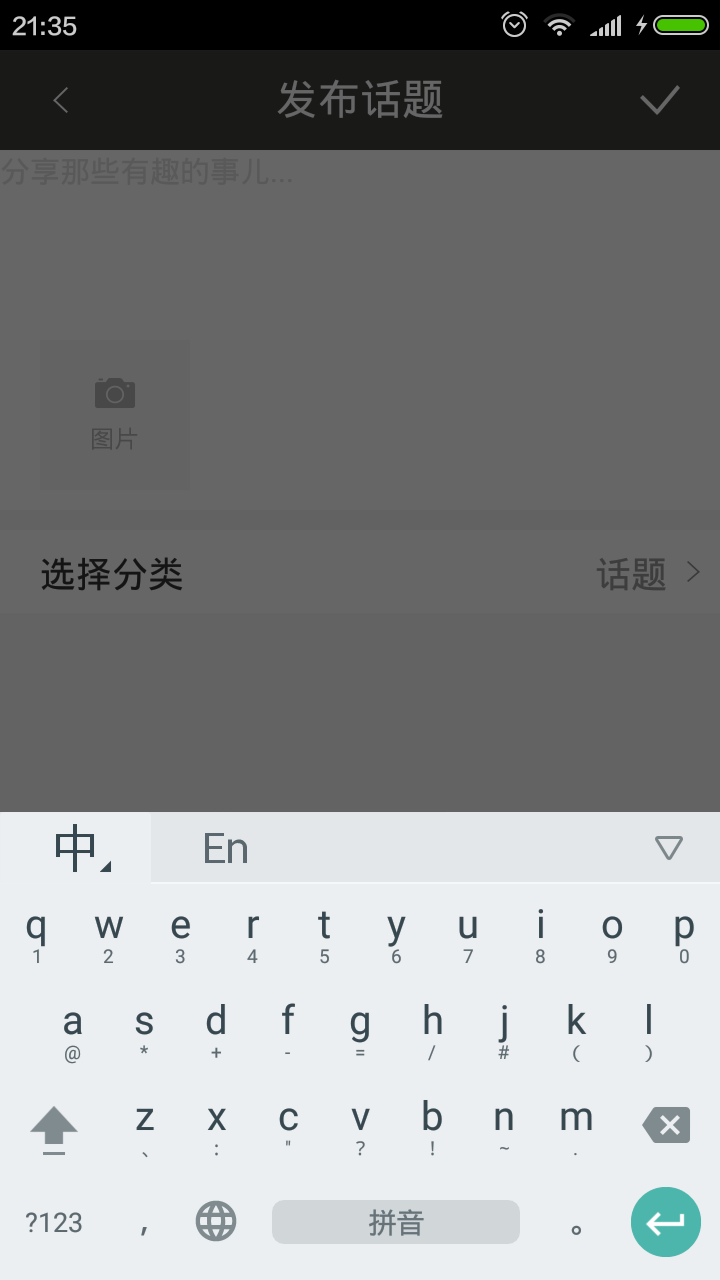button: (622, 1181, 710, 1263)
